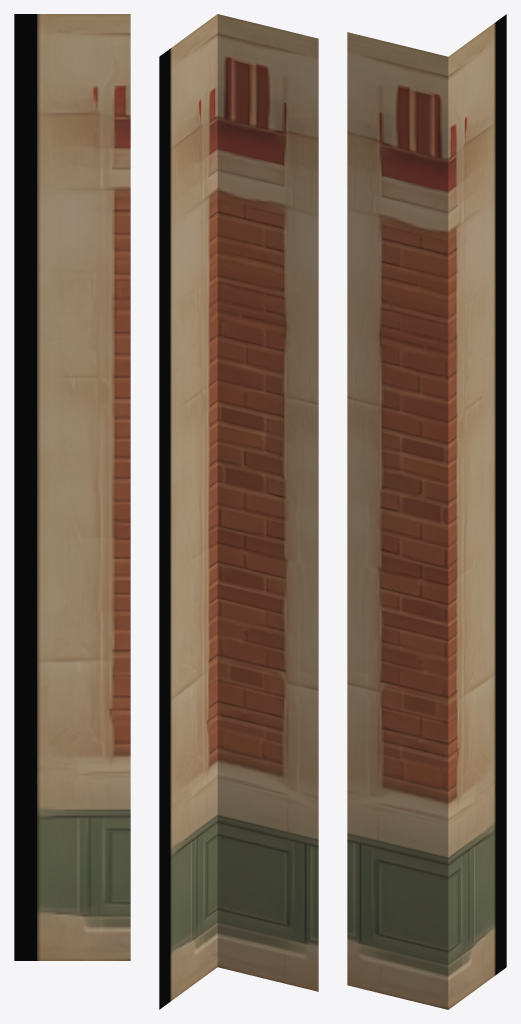
Rendered from BRK_Corner_G.fbx.
The picture shows the model from 3 angles, left to right: view 1: azimuth 90°, elevation 25°; view 2: azimuth 150°, elevation 25°; view 3: azimuth 330°, elevation 25°; orthographic projection.
Visible parts, largest first — view 1: BRK_Corner_G; view 2: BRK_Corner_G; view 3: BRK_Corner_G.
Part boxes in pixels (left/top/right/bottom): BRK_Corner_G: left=14, top=14, right=130, bottom=960; BRK_Corner_G: left=159, top=14, right=318, bottom=1009; BRK_Corner_G: left=347, top=14, right=506, bottom=1009.
Size of the model in its own units: 0.5 by 0.5 by 4.5.
Materials: 1 (1 with a texture image).
